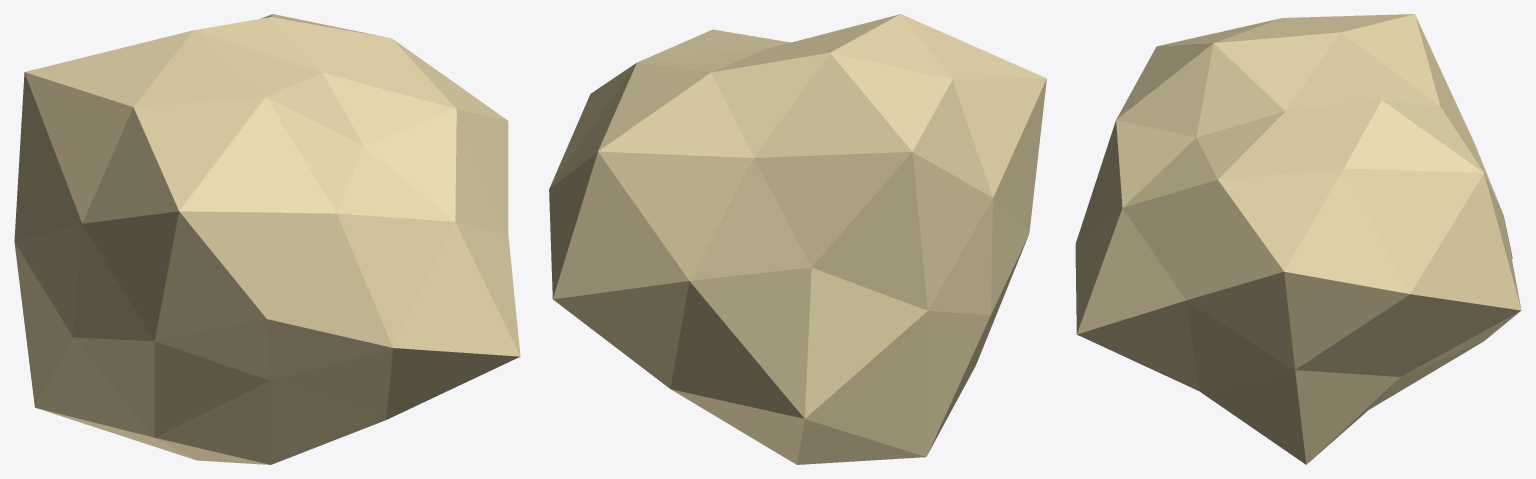
File: popcorn.fbx
3 renders of one model, left to right at view 1: azimuth 30°, elevation 25°; view 2: azimuth 150°, elevation 25°; view 3: azimuth 270°, elevation 25°, orthographic. The views are drawn at different scales.
Visible parts, largest first — view 1: popped-corn; view 2: popped-corn; view 3: popped-corn.
Boxes of the visible parts, left/top/right/bottom form: popped-corn: left=14, top=14, right=520, bottom=464; popped-corn: left=549, top=14, right=1046, bottom=464; popped-corn: left=1075, top=14, right=1521, bottom=464.
Bounding box in the file's own units: 5.96 × 5.77 × 5.37.
